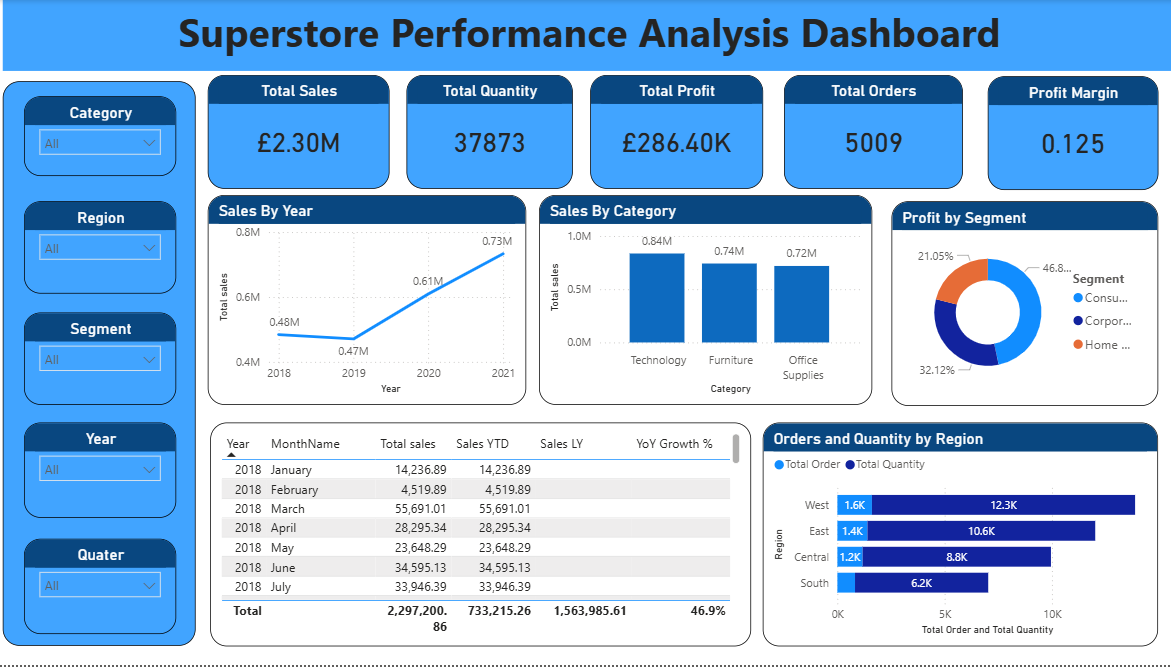

Layout of this report page (visuals, bound fields, positions):
{"tool":"powerbi","page":{"name":"Overview","canvas":[1280,720],"ordinal":0},"visuals":[{"type":"textbox","box":[9.6,0,1270.7,76.8],"z":0},{"type":"card","title":"Total Sales","fields":{"Values":["transaction.Total sales"]},"box":[231.1,80.7,196.9,123.5],"z":1000},{"type":"card","title":"Total Orders","fields":{"Values":["transaction.Total Order"]},"box":[854.8,80.7,193.2,123.5],"z":2000},{"type":"card","title":"Total Profit","fields":{"Values":["transaction.Total profit"]},"box":[645.7,80.7,187.1,123.5],"z":3000},{"type":"card","title":"Total Quantity","fields":{"Values":["transaction.Total Quantity"]},"box":[446.3,80.7,179.8,123.5],"z":4000},{"type":"textbox","box":[9.8,88,209.1,611.4],"z":5000},{"type":"slicer","title":"Category","fields":{"Values":["product.Category"]},"box":[32.5,104.2,165.1,86.6],"z":6000},{"type":"slicer","title":"Region","fields":{"Values":["geography.Region"]},"box":[32.5,217.9,165.1,100.1],"z":7000},{"type":"slicer","title":"Year","fields":{"Values":["order.Order Date.Variation.Date Hierarchy.Year"]},"box":[32.5,457.4,165.1,102.9],"z":8000},{"type":"slicer","title":"Quater","fields":{"Values":["order.Order Date.Variation.Date Hierarchy.Quarter"]},"box":[32.5,583.3,165.1,102.9],"z":9000},{"type":"slicer","title":"Segment","fields":{"Values":["product.Sub-Category"]},"box":[32.5,338.3,165.1,100.1],"z":10000},{"type":"card","title":"Profit Margin","fields":{"Values":["transaction.Profit Margin"]},"box":[1076.1,81.9,184.6,123.5],"z":11000},{"type":"donutChart","title":"Profit by Segment","fields":{"Category":["customer.Segment"],"Y":["transaction.Total profit"]},"box":[972.2,217.7,288.6,221.3],"z":12000},{"type":"lineChart","title":"Sales By Year","fields":{"Y":["transaction.Total sales"],"Category":["Date.Date.Variation.Date Hierarchy.Year"]},"box":[231.1,211.6,344.8,227.4],"z":13000},{"type":"tableEx","fields":{"Values":["Date.Year","Date.MonthName","transaction.Total sales","transaction.Sales YTD","transaction.Sales LY","transaction.YoY Growth %"]},"box":[234.8,457.3,585.7,242.1],"z":13001},{"type":"columnChart","title":"Sales By Category","fields":{"Category":["product.Category"],"Y":["transaction.Total sales"]},"box":[590.6,211.6,360.7,227.4],"z":13002},{"type":"barChart","title":"Orders and Quantity by Region","fields":{"Category":["geography.Region"],"Y":["transaction.Total Order","transaction.Total Quantity"]},"box":[832.7,457.3,428,242.1],"z":13003}]}

Visuals, with their boxes in screenshot pixels (x1, y1, x2, y2), scaled from the page's 1280x720 canvas onto the 1171x668 screenshot:
textbox: detection(9, 0, 1170, 71)
"Total Sales" card: detection(211, 75, 392, 189)
"Total Orders" card: detection(782, 75, 959, 189)
"Total Profit" card: detection(591, 75, 762, 189)
"Total Quantity" card: detection(408, 75, 573, 189)
textbox: detection(9, 82, 200, 649)
"Category" slicer: detection(30, 97, 181, 177)
"Region" slicer: detection(30, 202, 181, 295)
"Year" slicer: detection(30, 424, 181, 520)
"Quater" slicer: detection(30, 541, 181, 637)
"Segment" slicer: detection(30, 314, 181, 407)
"Profit Margin" card: detection(984, 76, 1153, 191)
"Profit by Segment" donutChart: detection(889, 202, 1153, 407)
"Sales By Year" lineChart: detection(211, 196, 527, 407)
tableEx - Date.Year x Date.MonthName: detection(215, 424, 751, 649)
"Sales By Category" columnChart: detection(540, 196, 870, 407)
"Orders and Quantity by Region" barChart: detection(762, 424, 1153, 649)
